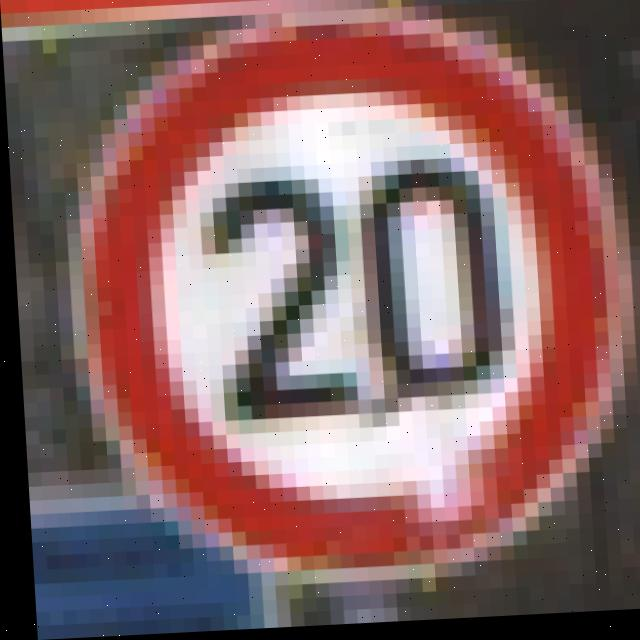speed_limit_20: (51, 0, 640, 598)
